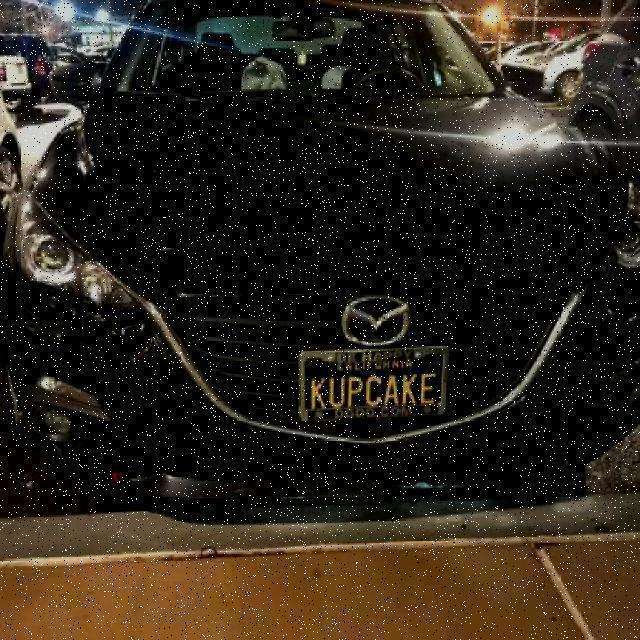license_plate: (296, 345, 450, 421)
